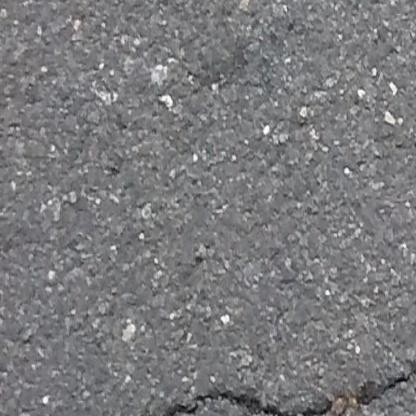Cracks: (64, 359, 416, 416)
